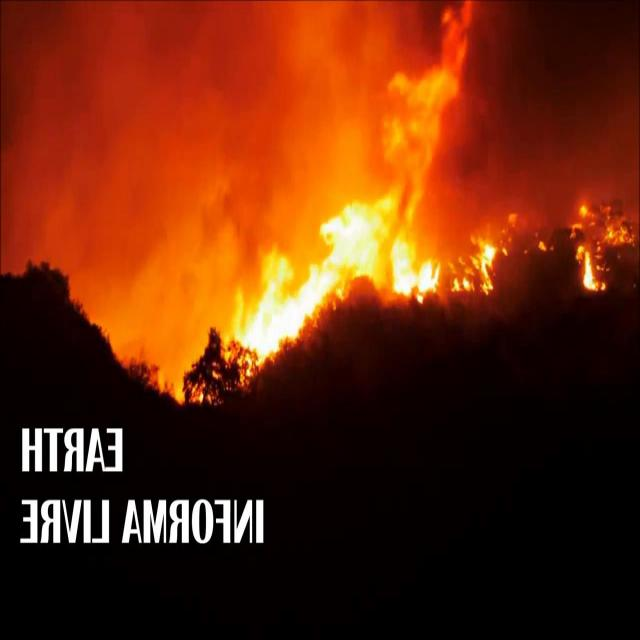fire: (101, 11, 473, 396)
